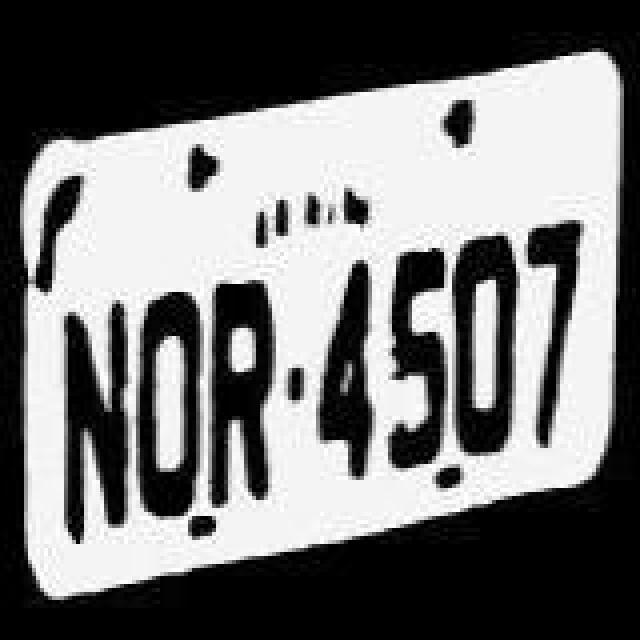4: (306, 234, 382, 494)
5: (376, 240, 456, 472)
7: (520, 184, 600, 472)
N: (52, 290, 140, 550)
O: (134, 260, 210, 524), (450, 216, 526, 472)
R: (202, 256, 286, 520)
